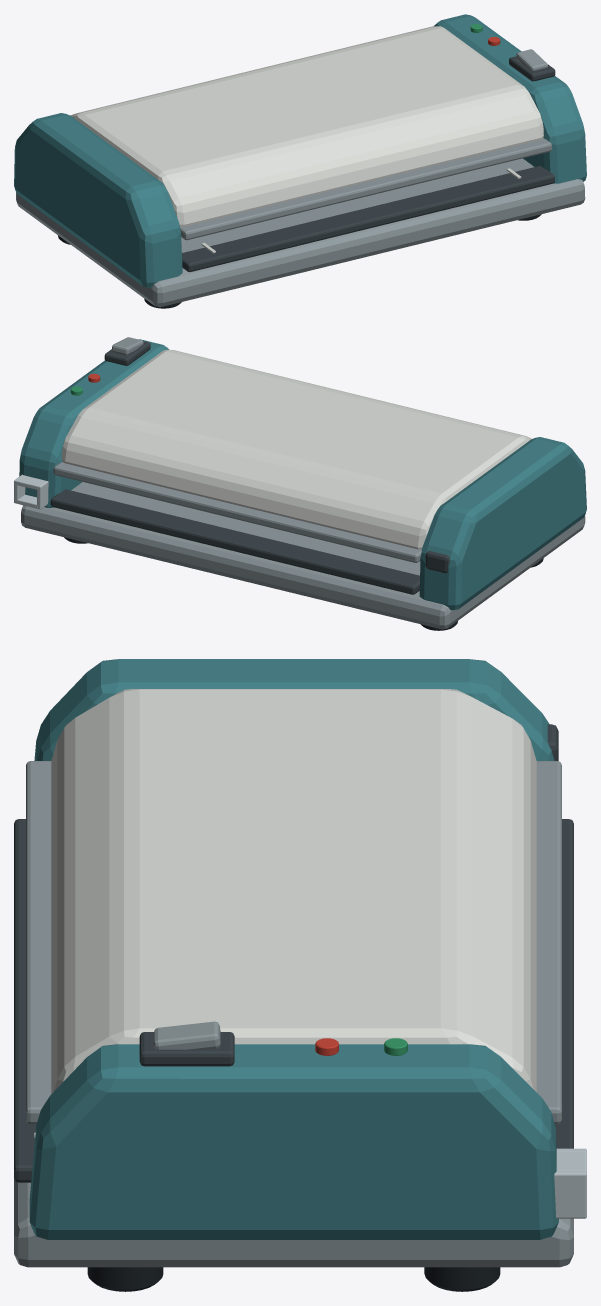
File: city-desktop-document-laminator.glb
3 renders of one model, top to bottom at view 1: azimuth 30°, elevation 25°; view 2: azimuth 150°, elevation 25°; view 3: azimuth 270°, elevation 25°, orthographic. The views are drawn at different scales.
Visible parts, largest first — view 1: Assembly | Warm ivory molded housing, Assembly | Cool grey equipment shell, Assembly | Muted teal enamel, Assembly | Graphite internal fittings; view 2: Assembly | Warm ivory molded housing, Assembly | Cool grey equipment shell, Assembly | Muted teal enamel, Assembly | Graphite internal fittings, Assembly | Satin machined metal; view 3: Assembly | Warm ivory molded housing, Assembly | Muted teal enamel, Assembly | Cool grey equipment shell, Assembly | Graphite internal fittings, Assembly | Matte rubber contact surfaces, Assembly | Satin machined metal.
Part boxes in pixels (x1,y1,x2,y2): Assembly | Warm ivory molded housing: (70, 26, 543, 253); Assembly | Cool grey equipment shell: (16, 49, 585, 306); Assembly | Muted teal enamel: (14, 14, 586, 287); Assembly | Graphite internal fittings: (182, 56, 555, 272); Assembly | Warm ivory molded housing: (62, 349, 531, 549); Assembly | Cool grey equipment shell: (21, 337, 585, 629); Assembly | Muted teal enamel: (19, 339, 586, 610); Assembly | Graphite internal fittings: (50, 341, 449, 594); Assembly | Satin machined metal: (14, 474, 48, 509); Assembly | Warm ivory molded housing: (34, 689, 536, 1138); Assembly | Muted teal enamel: (29, 659, 558, 1239); Assembly | Cool grey equipment shell: (14, 761, 573, 1267); Assembly | Graphite internal fittings: (14, 724, 573, 1182); Assembly | Matte rubber contact surfaces: (87, 1267, 500, 1291); Assembly | Satin machined metal: (554, 1148, 586, 1218).
Bounding box in the file's own units: 0.423 × 0.1269 × 0.2415.
